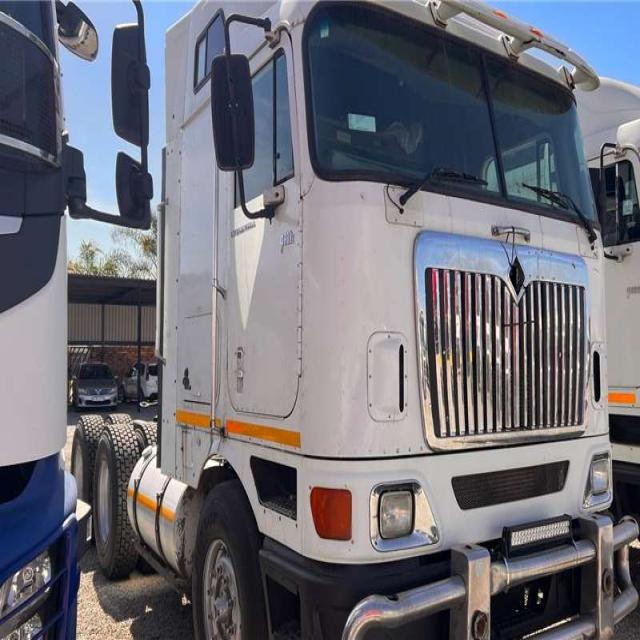Heavy Duty Truck: (71, 4, 639, 638)
Passenger Car: (74, 360, 120, 414)
